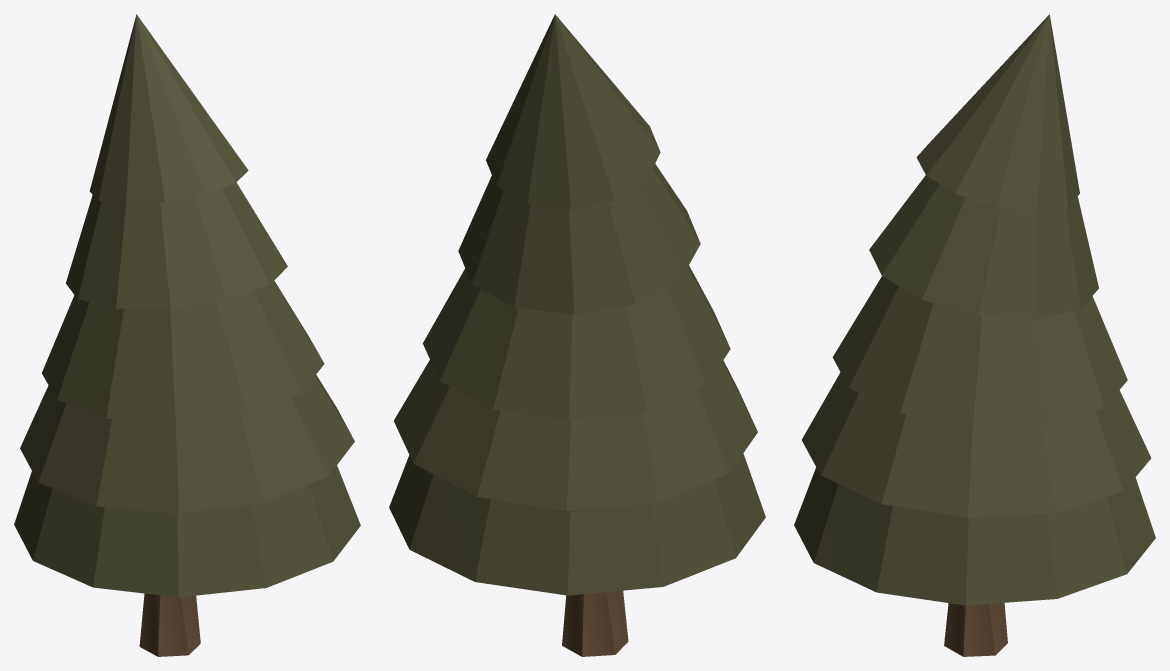
File: tree_conifer_green_3.glb
3 views of the same model, side by side, from view 1: azimuth 30°, elevation 25°; view 2: azimuth 150°, elevation 25°; view 3: azimuth 270°, elevation 25° (orthographic). The views are drawn at different scales.
Visible parts, largest first — view 1: Tree Conifer 3.165; view 2: Tree Conifer 3.165; view 3: Tree Conifer 3.165.
Boxes of the visible parts, bbox=[...] form: Tree Conifer 3.165: bbox=[14, 14, 360, 656]; Tree Conifer 3.165: bbox=[389, 14, 765, 656]; Tree Conifer 3.165: bbox=[794, 14, 1155, 656].
Size of the model in its own units: 0.1755 by 0.3379 by 0.1755.
